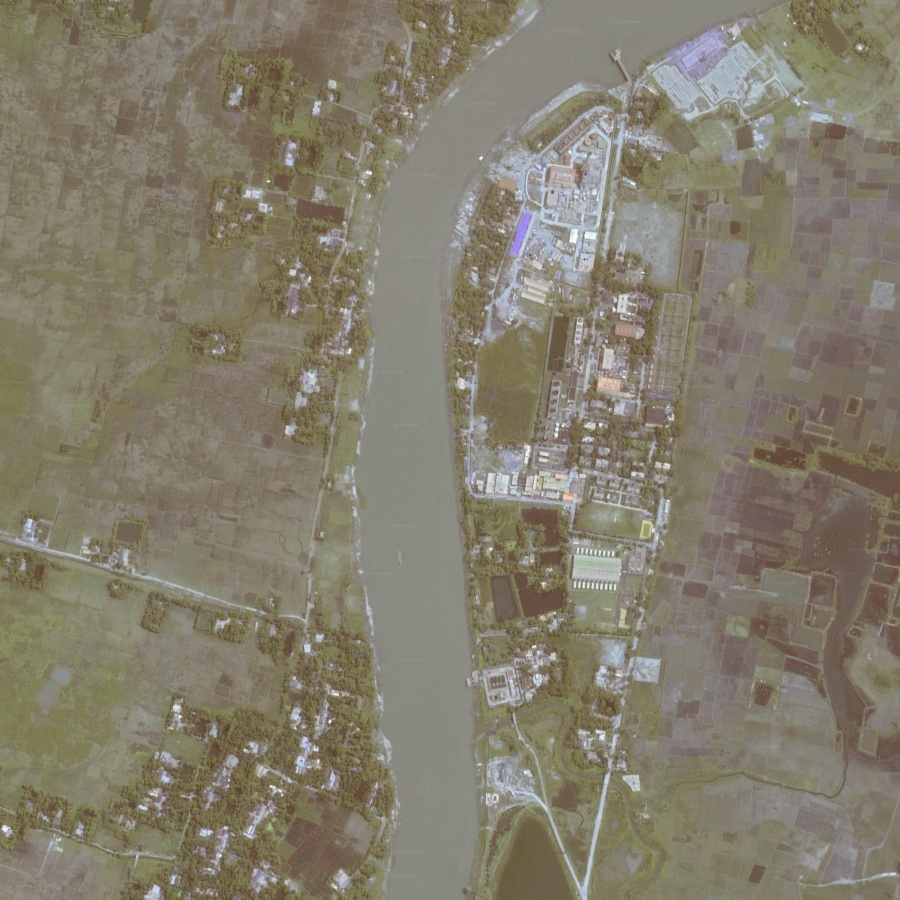PowerPlant: (537, 117, 608, 272)
